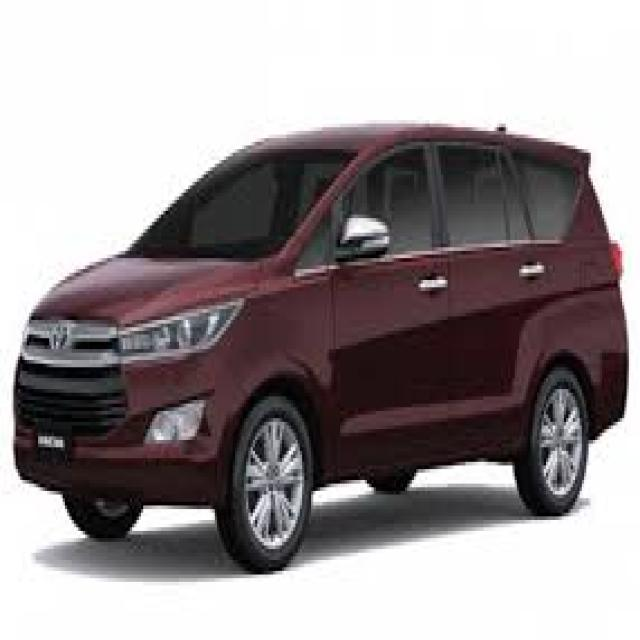light_vehicle: (13, 123, 629, 575)
